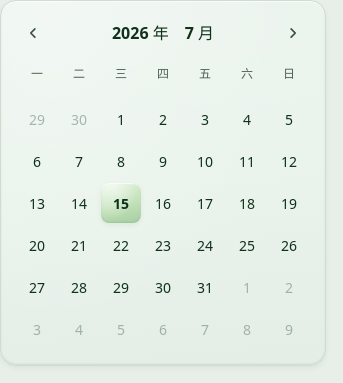
it: Calendar › picks a year and month through the title buttons
Click the button named "选择年份". click: click(140, 33)
box: [104, 17, 177, 49]
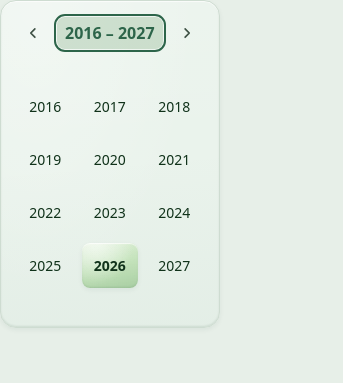
Click the button "2024". click: click(174, 212)
box: [146, 190, 202, 235]
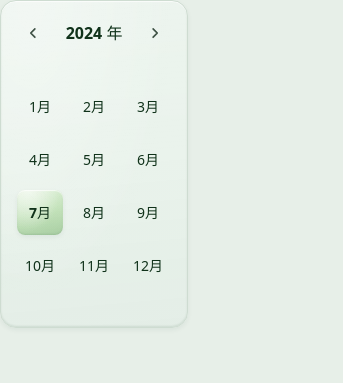
Click the button "3月". click: click(148, 106)
box: [125, 84, 171, 129]
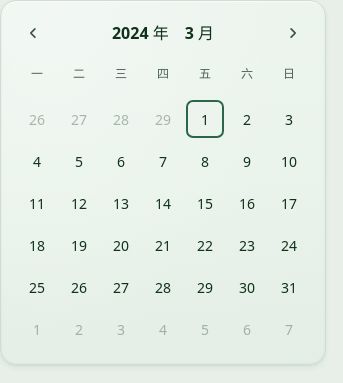
expect the button named "选择年份" reads "2024 年": met, box [104, 17, 177, 49]
expect the button named "选择月份" reads "3 月": met, box [177, 17, 222, 49]
